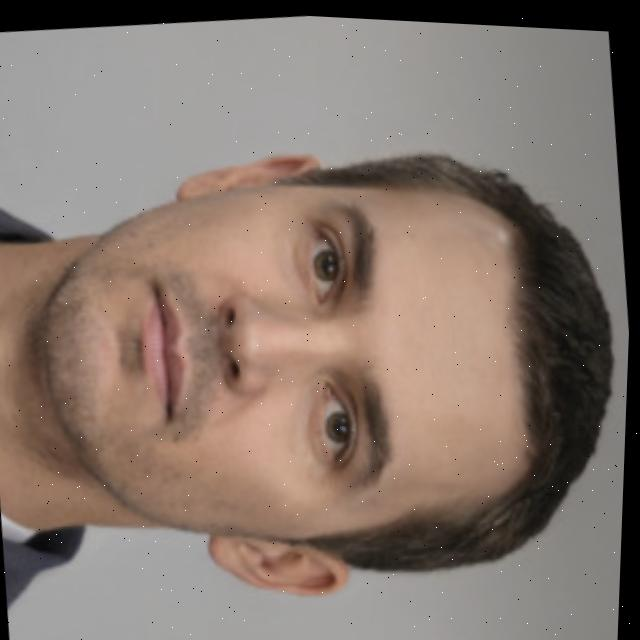natural: (44, 108, 637, 610)
